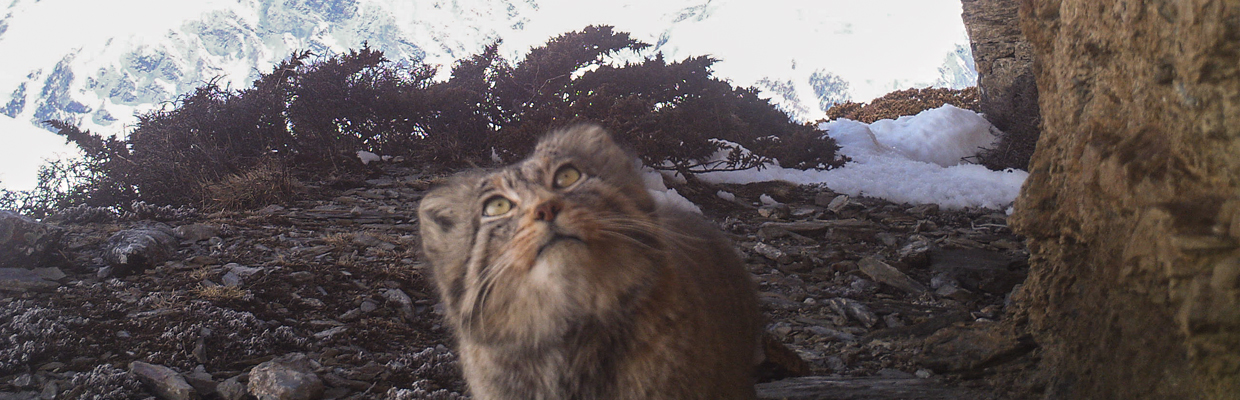cat: (390, 120, 838, 400)
